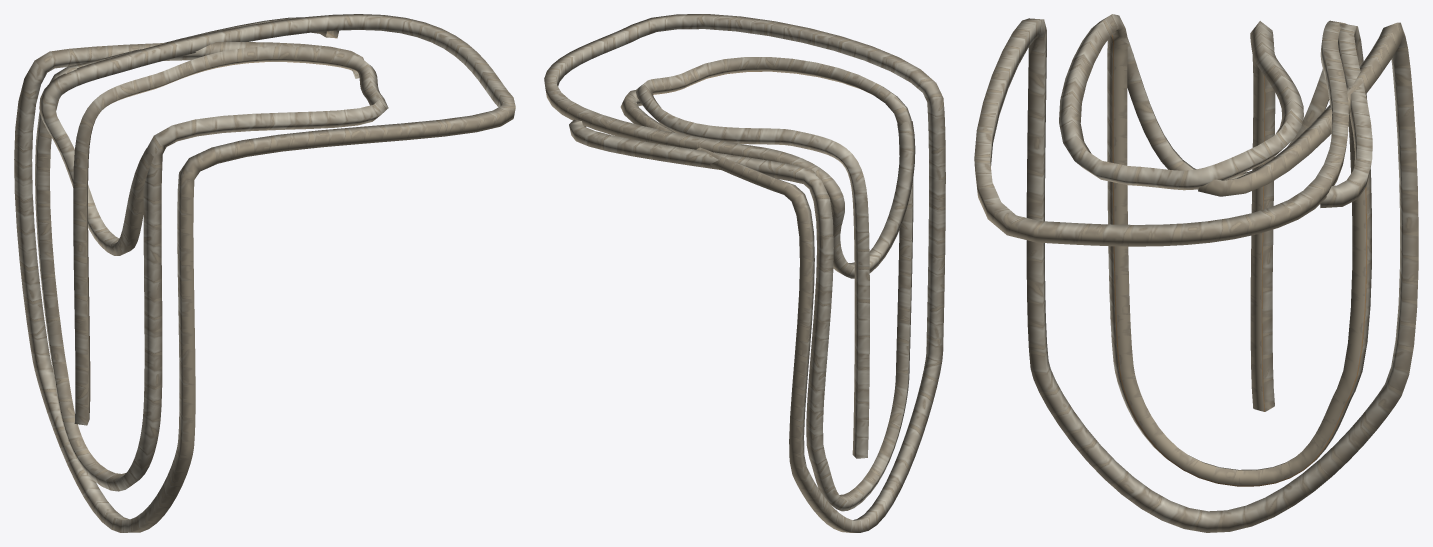
File: Rope_90_01.fbx
3 renders of one model, left to right at view 1: azimuth 30°, elevation 25°; view 2: azimuth 150°, elevation 25°; view 3: azimuth 270°, elevation 25°, orthographic. The views are drawn at different scales.
Visible parts, largest first — view 1: Rope_90_V01; view 2: Rope_90_V01; view 3: Rope_90_V01.
Boxes of the visible parts, x1,y1,x2,y2 form: Rope_90_V01: [14, 14, 515, 532]; Rope_90_V01: [544, 14, 945, 532]; Rope_90_V01: [974, 14, 1418, 532].
Size of the model in its own units: 140 by 160 by 121.
